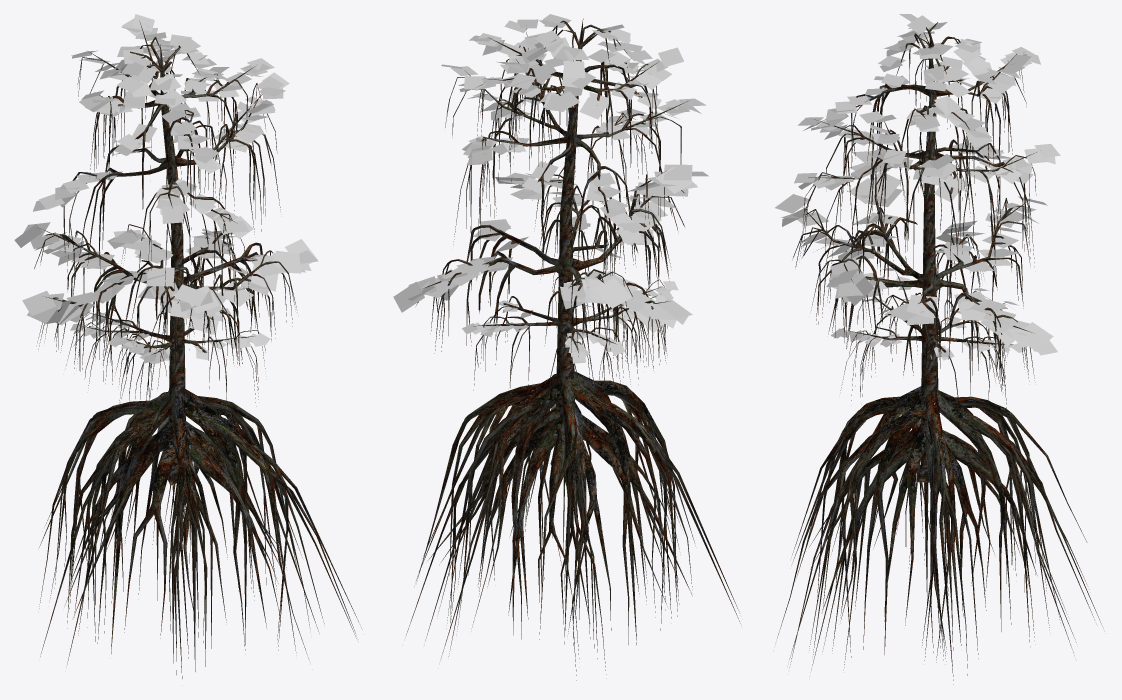
Rendered from SwampTree06.fbx.
The picture shows the model from 3 angles, left to right: view 1: azimuth 30°, elevation 25°; view 2: azimuth 150°, elevation 25°; view 3: azimuth 270°, elevation 25°; orthographic projection. The views are drawn at different scales.
Parts seen in each view (by area): view 1: SwampTree06; view 2: SwampTree06; view 3: SwampTree06.
Part boxes in pixels (box(x1,y1,x2,y2)): SwampTree06: box(14, 14, 362, 678); SwampTree06: box(393, 14, 740, 680); SwampTree06: box(775, 14, 1102, 684).
Size of the model in its own units: 71.99 by 71.88 by 143.
